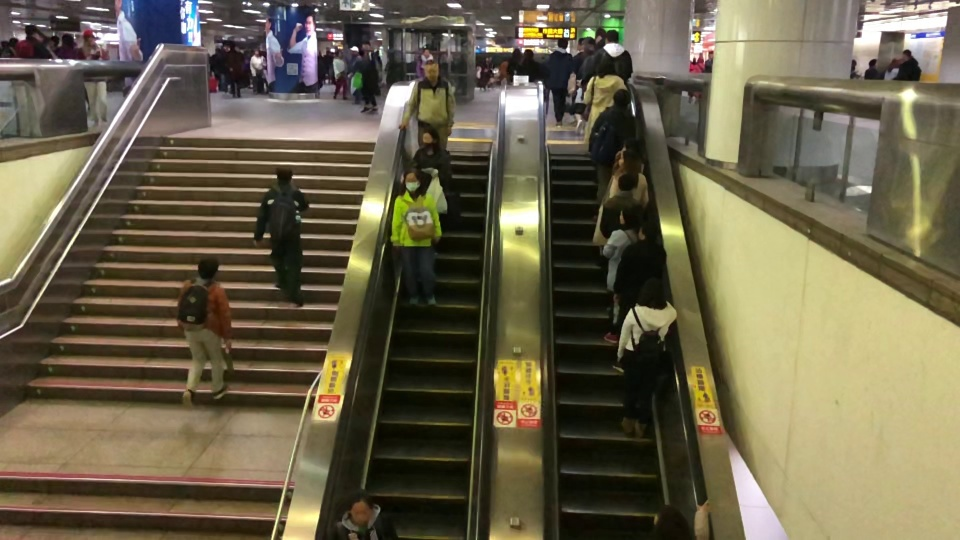person_head: (652, 498, 691, 540), (637, 276, 667, 310), (348, 487, 374, 525), (617, 205, 642, 231), (196, 257, 219, 282), (617, 150, 642, 173), (402, 167, 423, 193), (637, 221, 659, 243), (422, 127, 440, 152), (616, 173, 636, 194), (595, 56, 616, 76), (611, 88, 631, 108), (621, 137, 640, 157), (423, 59, 439, 81), (275, 167, 293, 186), (580, 36, 596, 54), (604, 29, 619, 45), (24, 23, 37, 38), (61, 33, 74, 48), (82, 28, 94, 44), (555, 36, 568, 50), (360, 40, 372, 55), (48, 35, 60, 48), (576, 37, 586, 52), (8, 37, 19, 49), (523, 48, 534, 60), (510, 48, 521, 59), (902, 49, 912, 61), (349, 45, 359, 56), (889, 58, 900, 68), (0, 40, 10, 49), (335, 49, 344, 59), (867, 58, 877, 67), (422, 47, 430, 58), (223, 41, 230, 53), (228, 40, 236, 50), (253, 48, 261, 57), (708, 50, 714, 60), (214, 47, 220, 56), (479, 58, 486, 65), (691, 56, 697, 64), (697, 52, 703, 59), (851, 59, 856, 67), (317, 50, 321, 57), (328, 51, 332, 57)
person_vbox: (615, 276, 678, 438), (176, 257, 232, 410), (612, 221, 666, 373), (252, 167, 309, 307), (388, 167, 443, 308), (588, 88, 636, 221), (399, 127, 453, 234), (601, 205, 642, 344), (398, 58, 456, 150), (582, 56, 628, 147), (332, 487, 400, 540), (576, 29, 633, 89), (598, 173, 647, 239), (78, 28, 109, 128), (644, 498, 712, 540), (572, 36, 597, 136), (606, 150, 649, 208), (548, 36, 573, 127), (355, 40, 380, 113), (15, 23, 52, 58), (610, 137, 644, 175), (224, 40, 245, 99), (514, 48, 550, 82), (571, 37, 586, 105), (346, 45, 362, 106), (332, 49, 349, 101), (54, 32, 86, 59), (895, 49, 921, 81), (249, 48, 266, 96), (220, 41, 232, 95), (688, 56, 700, 104), (506, 48, 522, 83), (416, 47, 433, 77), (476, 58, 491, 92), (863, 57, 882, 80), (209, 46, 220, 80), (884, 58, 900, 80), (703, 50, 715, 73), (317, 50, 324, 89), (0, 40, 15, 58), (850, 59, 861, 79), (326, 51, 332, 85), (697, 52, 706, 69)
